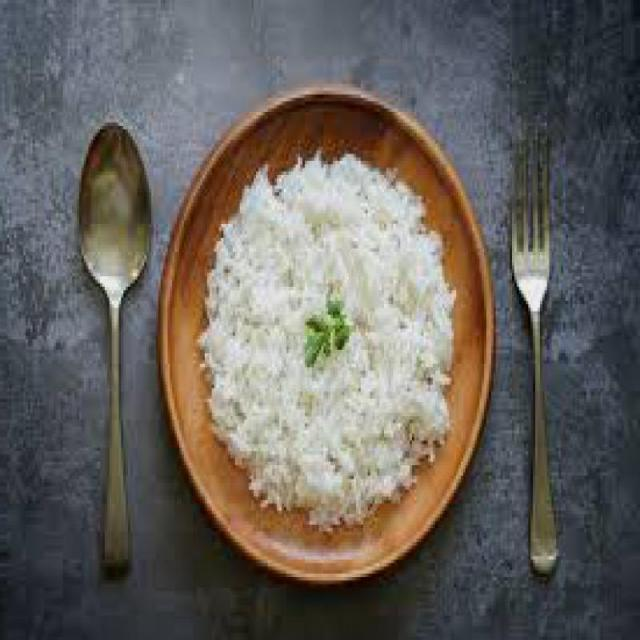rice: (201, 153, 453, 536)
